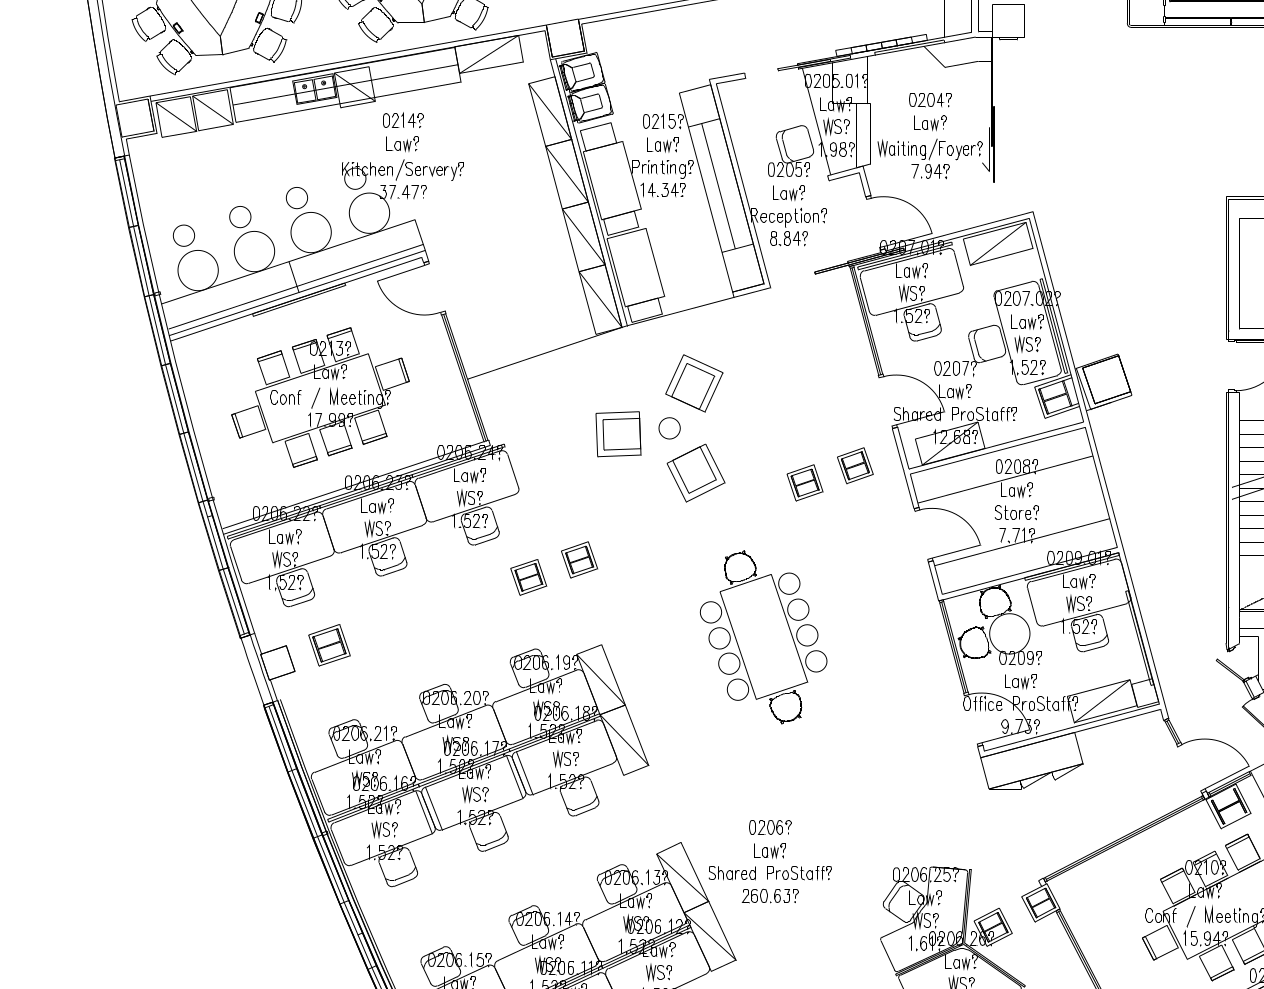door: (364, 262, 447, 328), (867, 181, 950, 247), (865, 360, 948, 426), (912, 503, 982, 563), (1181, 731, 1251, 792), (964, 685, 1034, 745)
